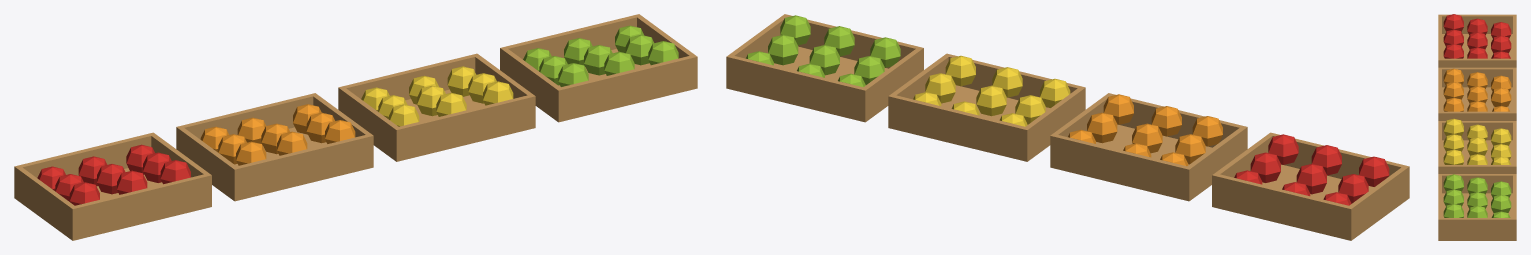
The model's file is market_food_fruit.glb.
The picture shows the model from 3 angles, left to right: view 1: azimuth 30°, elevation 25°; view 2: azimuth 150°, elevation 25°; view 3: azimuth 270°, elevation 25°; orthographic projection. The views are drawn at different scales.
Visible parts, largest first — view 1: crate_crate_wood, goods_orange, goods_pear_fruit, goods_apple, goods_banana; view 2: crate_crate_wood, goods_orange, goods_banana, goods_apple, goods_pear_fruit; view 3: crate_crate_wood, goods_banana, goods_apple, goods_pear_fruit, goods_orange.
Boxes of the visible parts, left/top/right/bottom form: crate_crate_wood: left=14, top=14, right=697, bottom=240; goods_orange: left=200, top=104, right=355, bottom=165; goods_pear_fruit: left=523, top=25, right=678, bottom=86; goods_apple: left=37, top=144, right=190, bottom=205; goods_banana: left=361, top=66, right=513, bottom=126; crate_crate_wood: left=726, top=14, right=1409, bottom=240; goods_orange: left=1068, top=94, right=1222, bottom=166; goods_banana: left=913, top=55, right=1070, bottom=126; goods_apple: left=1234, top=134, right=1389, bottom=205; goods_pear_fruit: left=746, top=15, right=900, bottom=87; crate_crate_wood: left=1438, top=14, right=1516, bottom=240; goods_banana: left=1443, top=118, right=1511, bottom=164; goods_apple: left=1443, top=14, right=1511, bottom=58; goods_pear_fruit: left=1443, top=174, right=1511, bottom=217; goods_orange: left=1443, top=68, right=1511, bottom=111.
Size of the model in its own units: 2.47 by 0.164 by 0.4.
